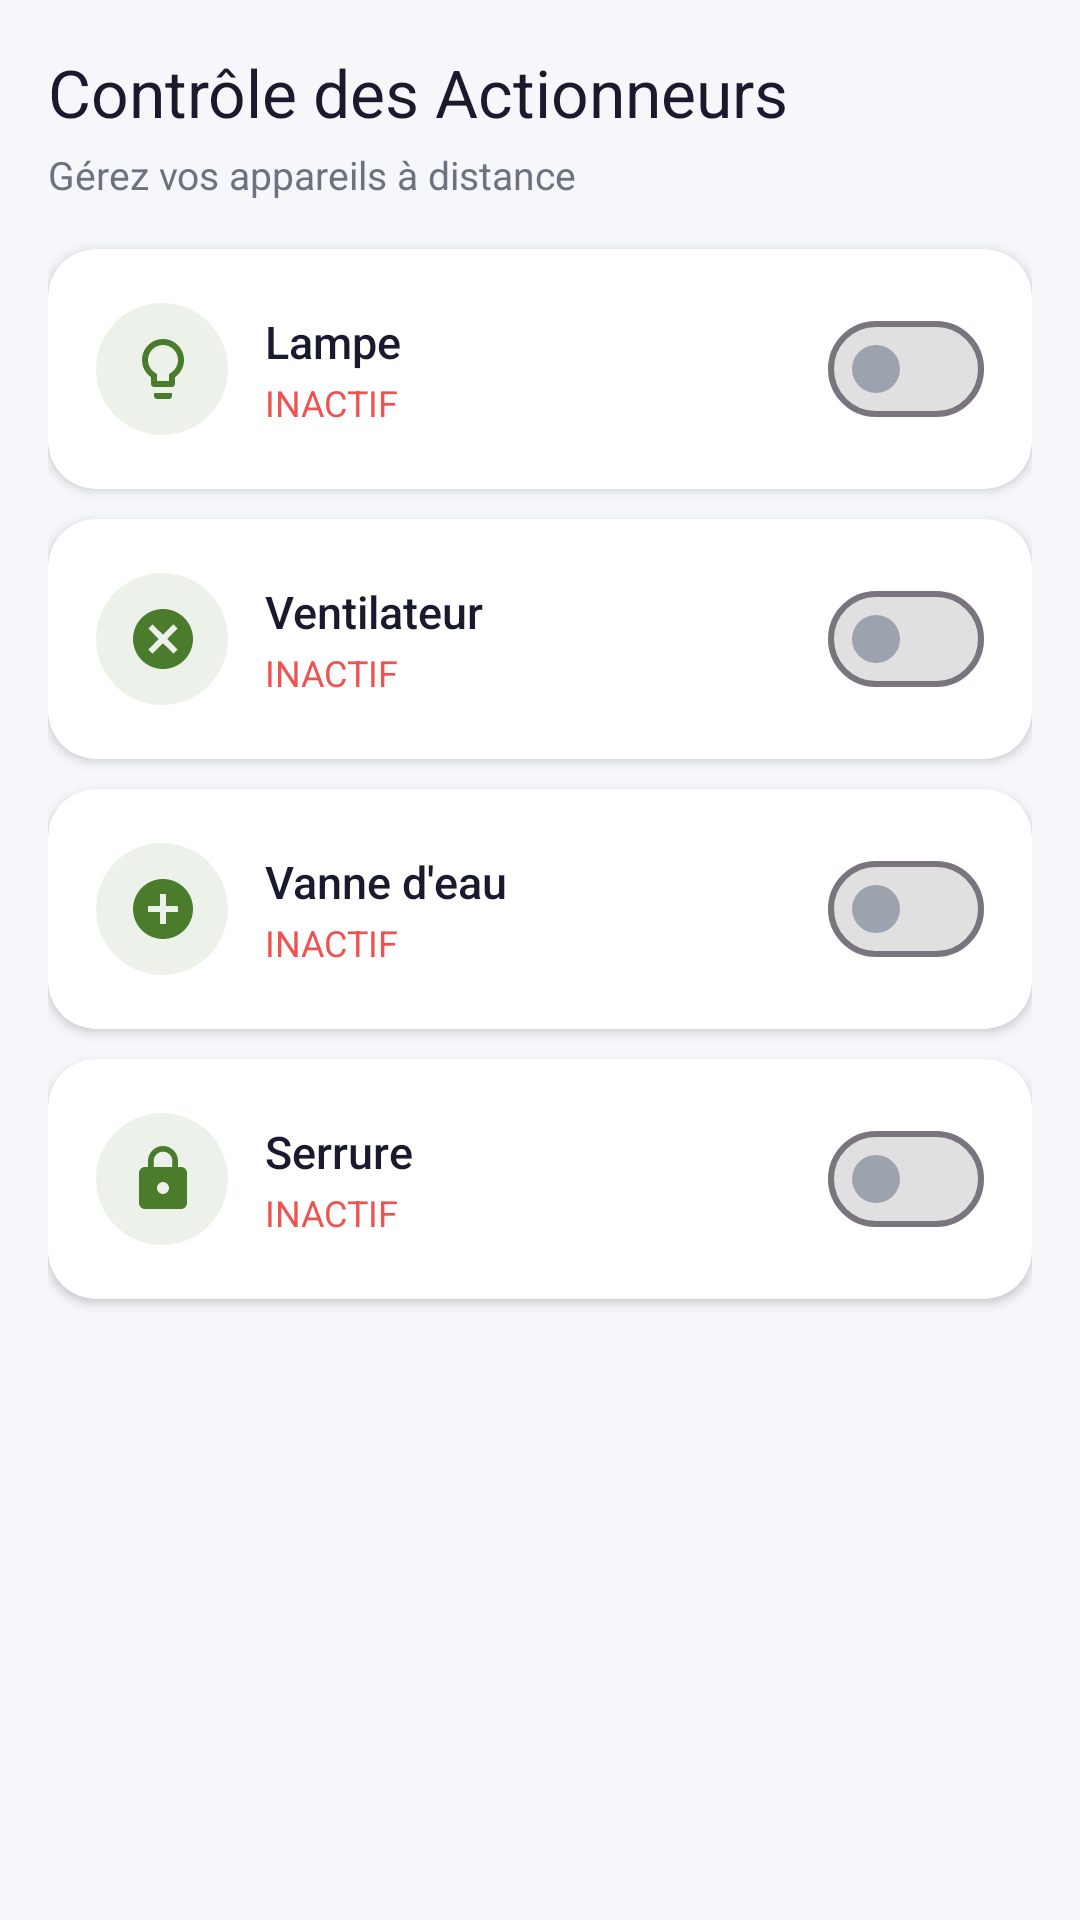

Named icons in this screenshot (1080x1920) and their centers, (x=x, y=y):
lock: (x=163, y=1177)
